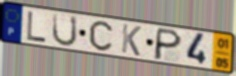4: (184, 31, 210, 68)
C: (88, 19, 114, 52)
K: (120, 22, 143, 58)
L: (26, 9, 48, 44)
P: (152, 27, 184, 62)
U: (51, 12, 79, 48)
